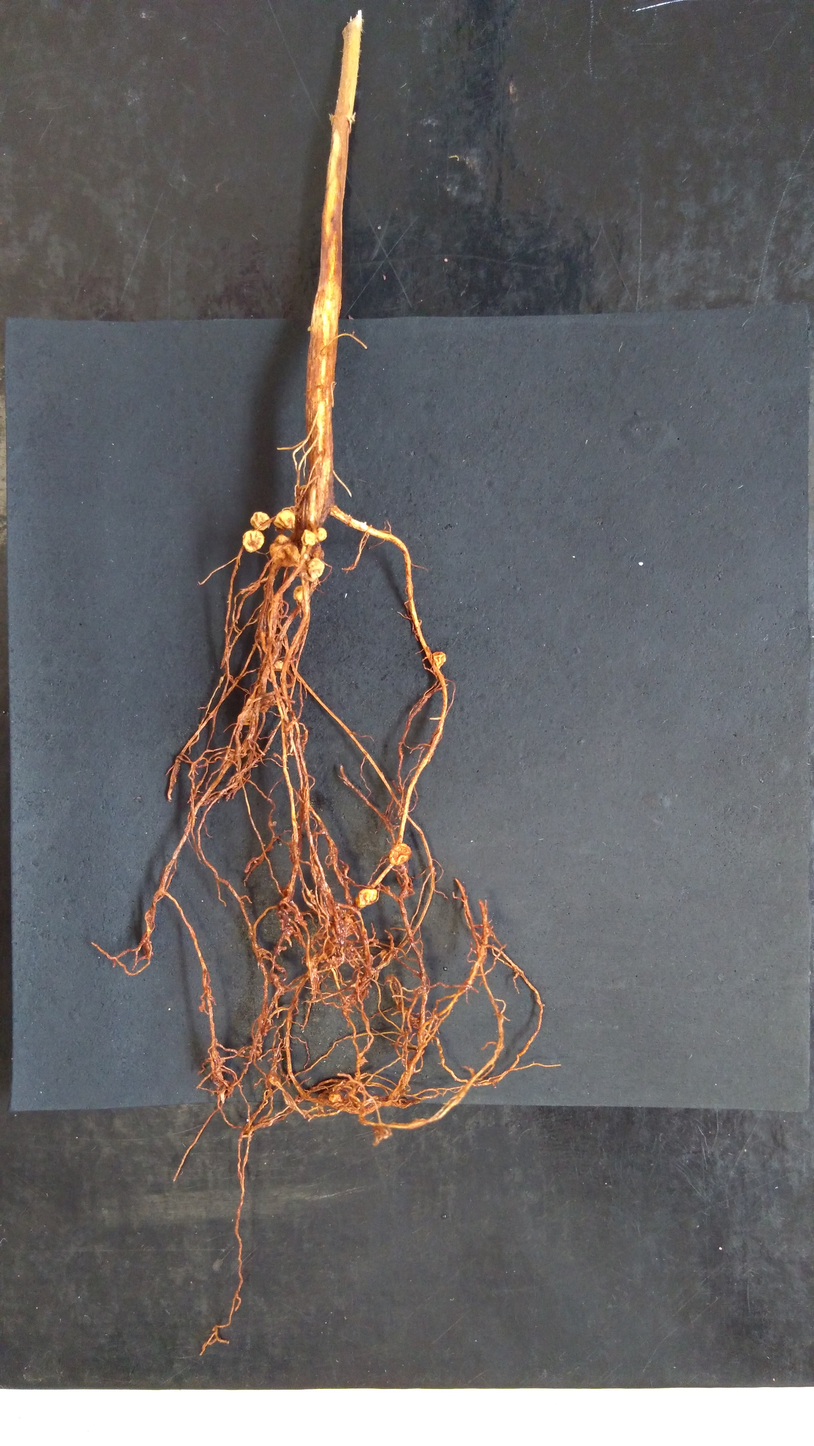nodule: (272, 543, 302, 569), (388, 841, 414, 867), (241, 529, 266, 554), (268, 533, 292, 558), (273, 508, 297, 532), (354, 887, 378, 910), (248, 511, 272, 531), (306, 557, 326, 579), (235, 710, 257, 727), (300, 527, 316, 547), (430, 649, 447, 665), (292, 584, 304, 603), (327, 1093, 345, 1104), (317, 526, 328, 543), (273, 659, 284, 671)
